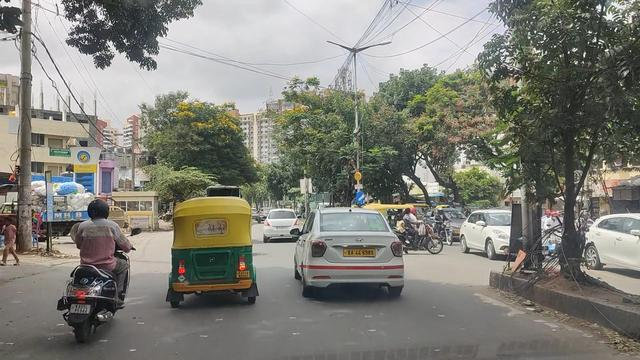LMV: (300, 211, 407, 308), (172, 203, 257, 306), (69, 205, 127, 339)
